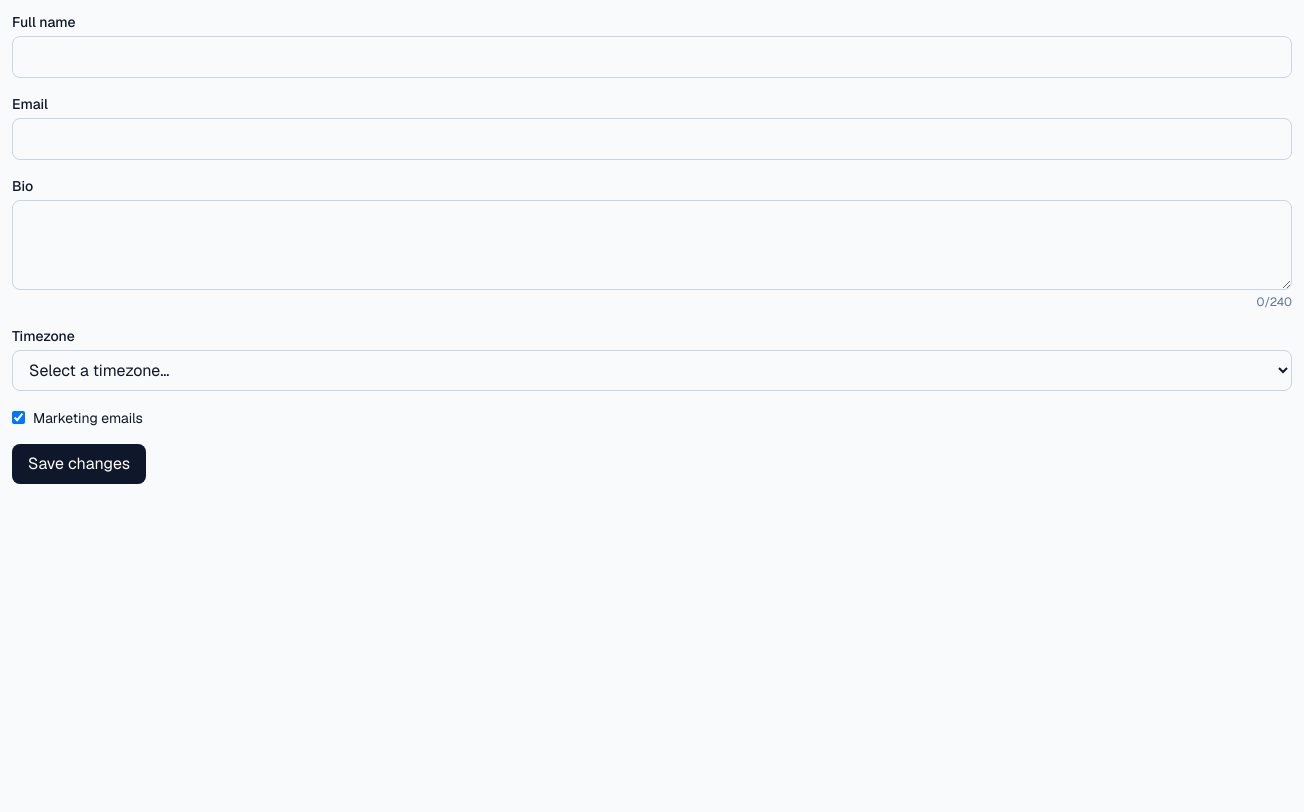
Test case: SettingsForm › shows required errors and flags fields as invalid on empty submit
Click the button "Save changes".
click(79, 464)  # box [12,444,146,484]
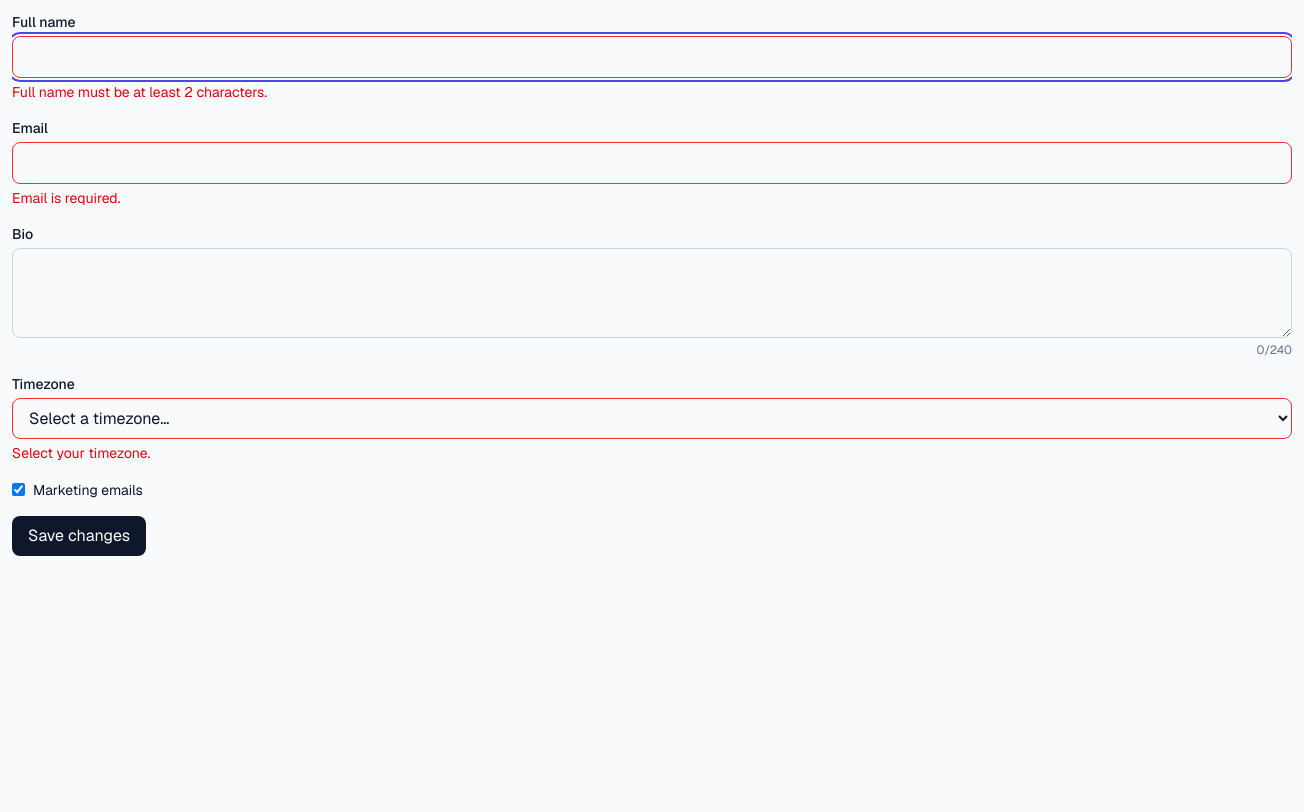
Expected: the text "Full name must be at least 2 characters." is shown, [12,83,267,101]
Expected: the text "Email is required." is shown, [12,189,120,207]
Expected: the text "Select your timezone." is shown, [12,444,150,462]
